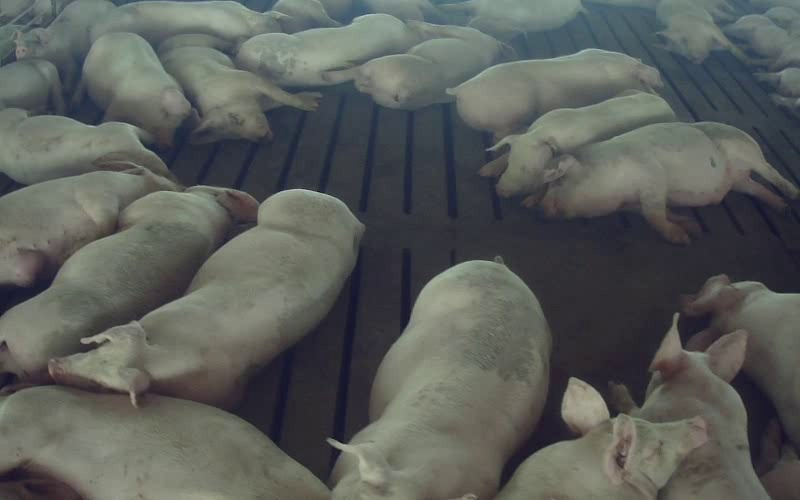pig: (49, 190, 363, 406), (330, 258, 550, 499), (0, 186, 256, 382), (526, 122, 799, 242), (610, 313, 769, 499), (496, 378, 705, 499), (0, 160, 177, 286), (479, 92, 675, 195), (683, 274, 799, 448), (448, 49, 662, 138), (158, 34, 320, 143), (326, 22, 501, 109), (236, 14, 419, 87), (82, 32, 190, 144), (90, 0, 282, 46), (657, 0, 734, 63)
